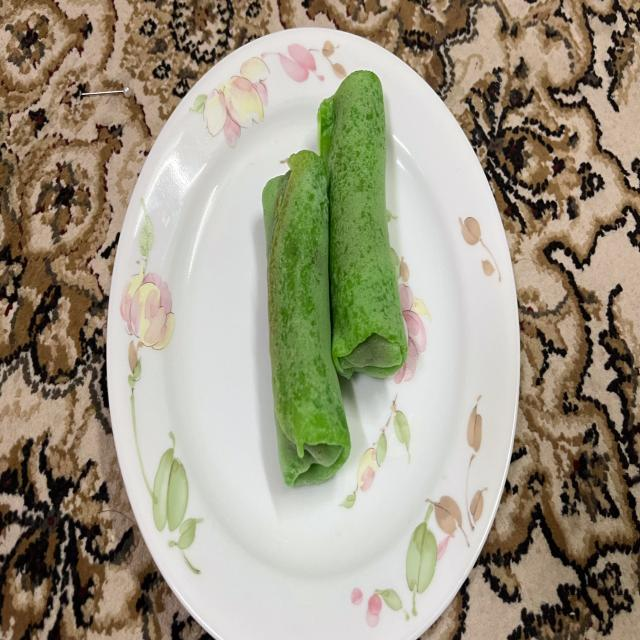Kuih-Ketayap: (262, 151, 350, 487), (318, 71, 408, 378)
